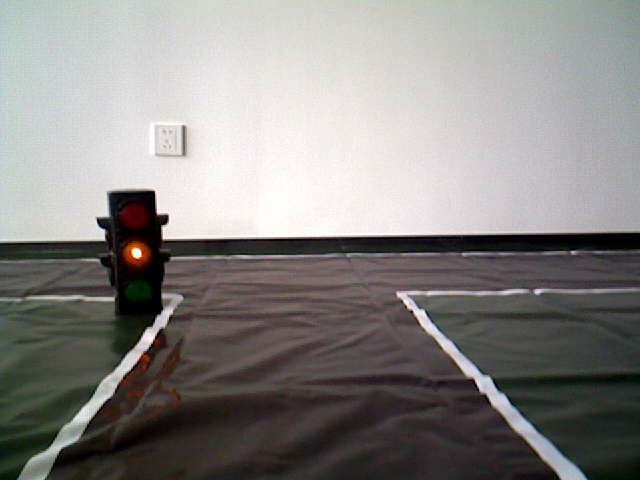yellow: (104, 189, 167, 307)
